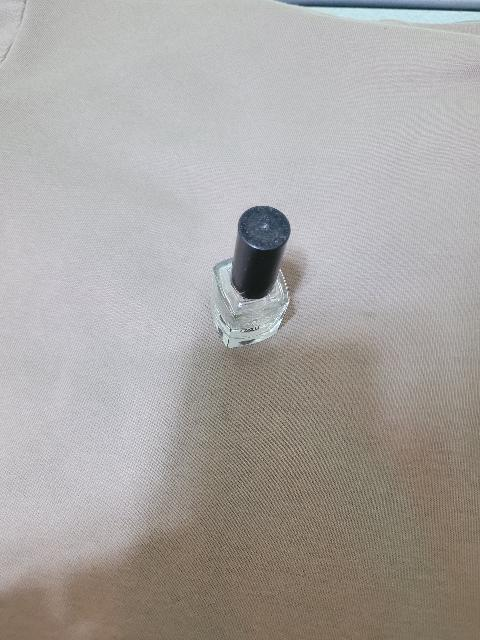Cam: (211, 259, 292, 351)
Plastik: (229, 202, 292, 300)
